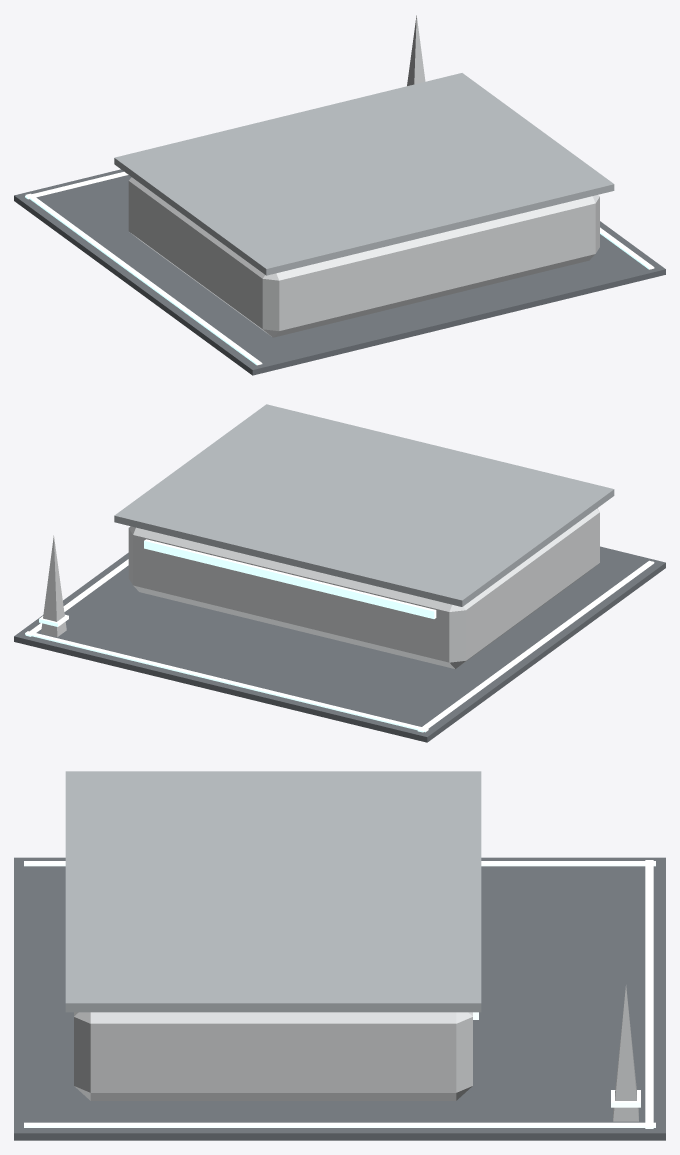
File: zone_low_3_t1.glb
3 renders of one model, top to bottom at view 1: azimuth 30°, elevation 25°; view 2: azimuth 150°, elevation 25°; view 3: azimuth 270°, elevation 25°, orthographic. The views are drawn at different scales.
Visible parts, largest first — view 1: zone_low_3_t1, detail; view 2: zone_low_3_t1, detail; view 3: zone_low_3_t1, detail.
Boxes of the visible parts, x1,y1,x2,y2 form: zone_low_3_t1: (14,73,665,375); detail: (25,15,654,365); zone_low_3_t1: (14,404,665,742); detail: (25,535,654,732); zone_low_3_t1: (14,771,665,1140); detail: (24,860,655,1128).
Bounding box in the file's own units: 19.6 × 4.65 × 19.6.
